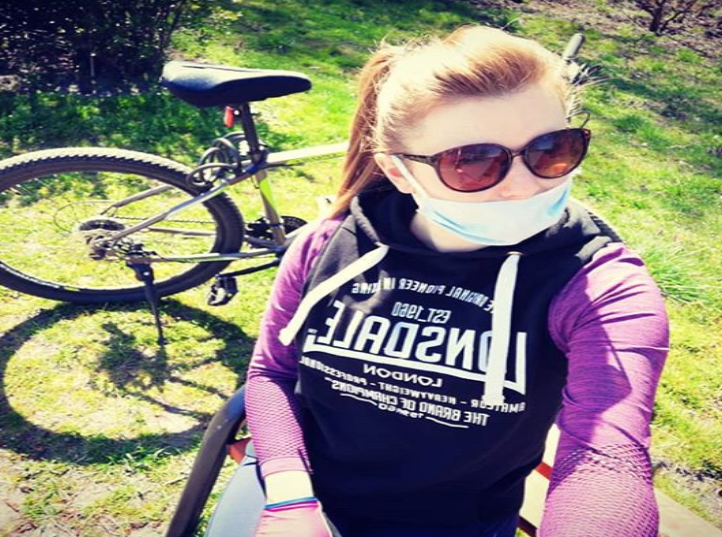mask_weared_incorrect: (362, 30, 596, 249)
